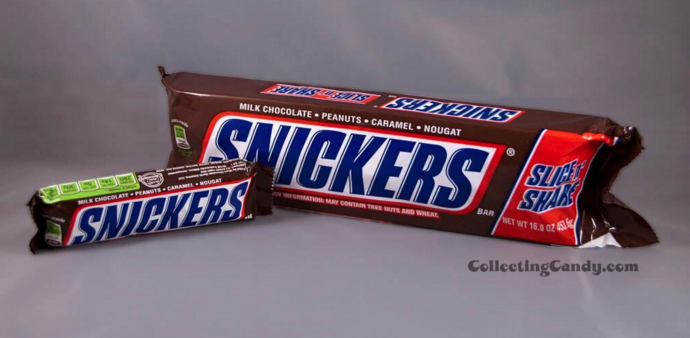snickers: (204, 118, 487, 207), (205, 119, 487, 208), (69, 180, 247, 244), (389, 94, 515, 121), (387, 96, 516, 120)
